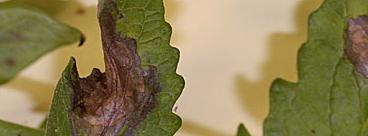Tomato leaf late blight: (37, 0, 198, 136), (232, 0, 368, 136)
